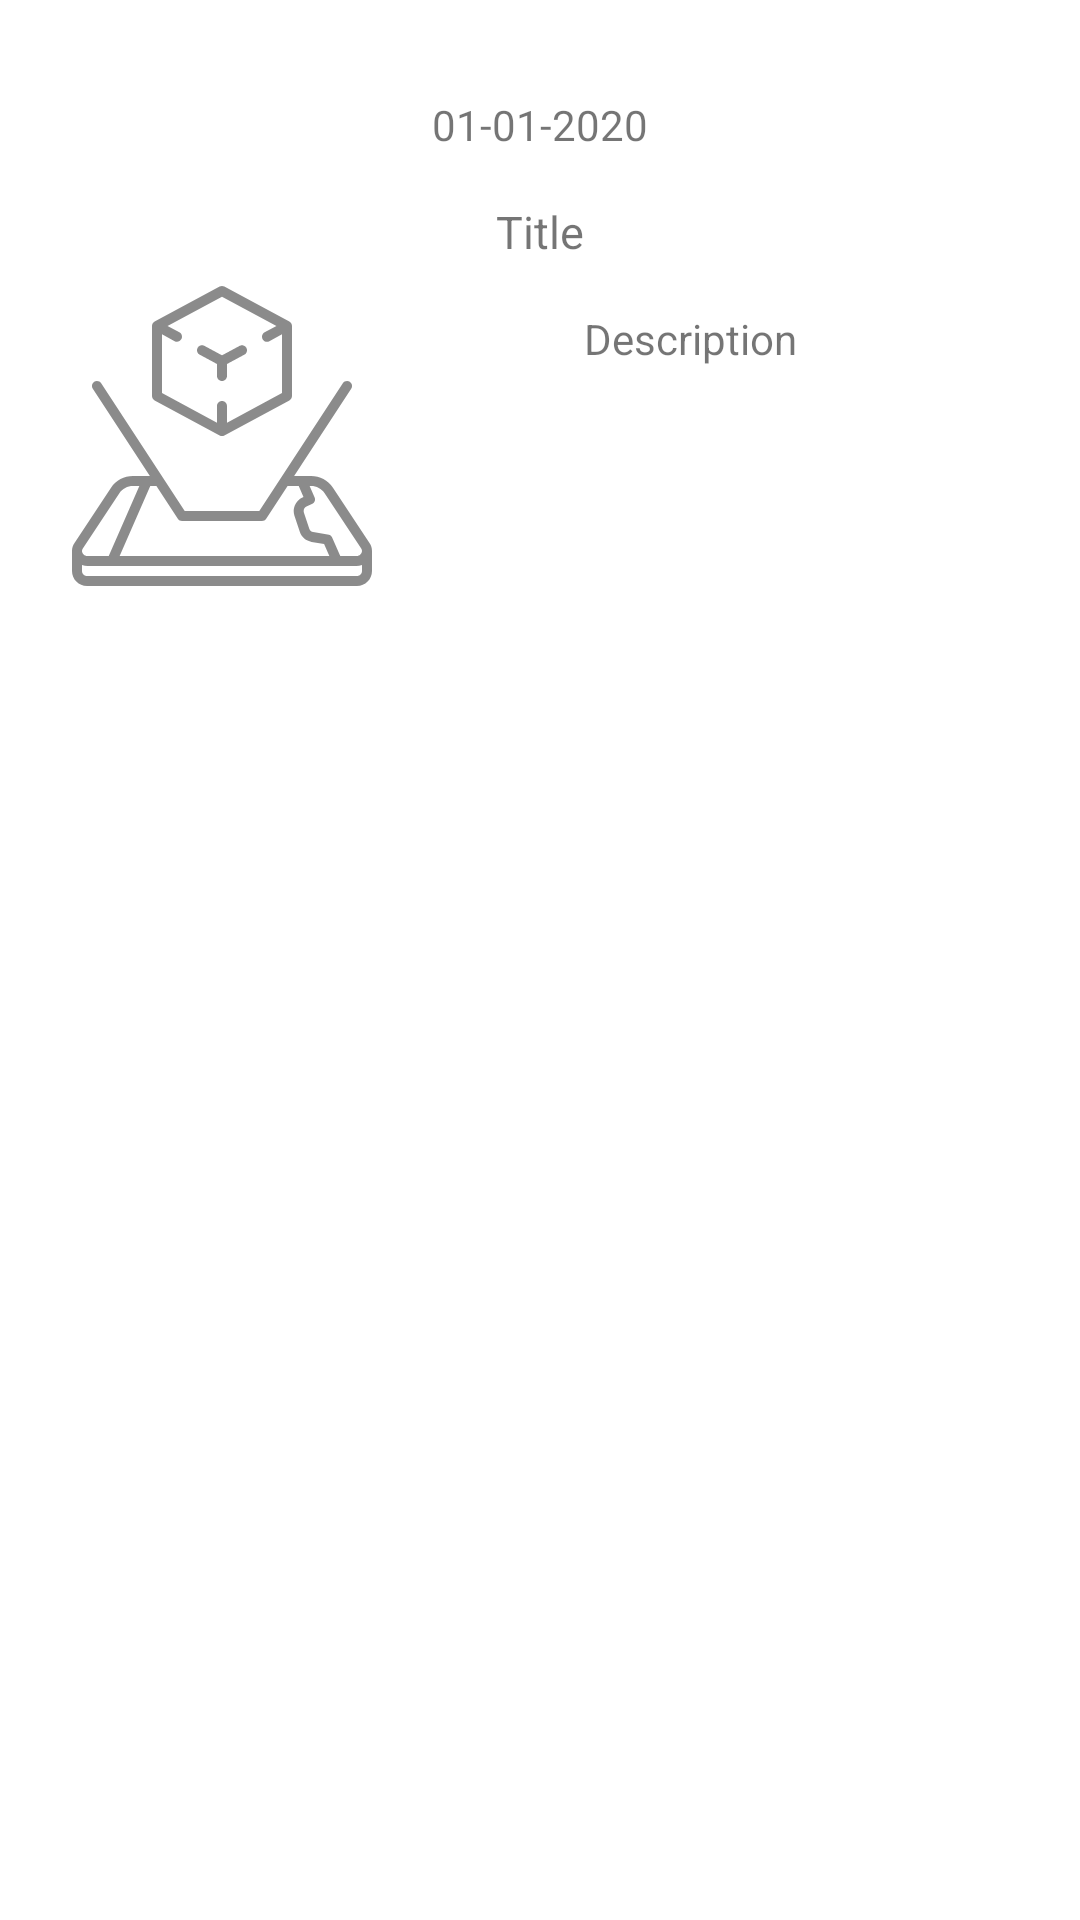

Icons on this 1080px×1920px Android screen, each with its box as (x1, y1, x2, y2):
mobile: (72, 286, 372, 586)
